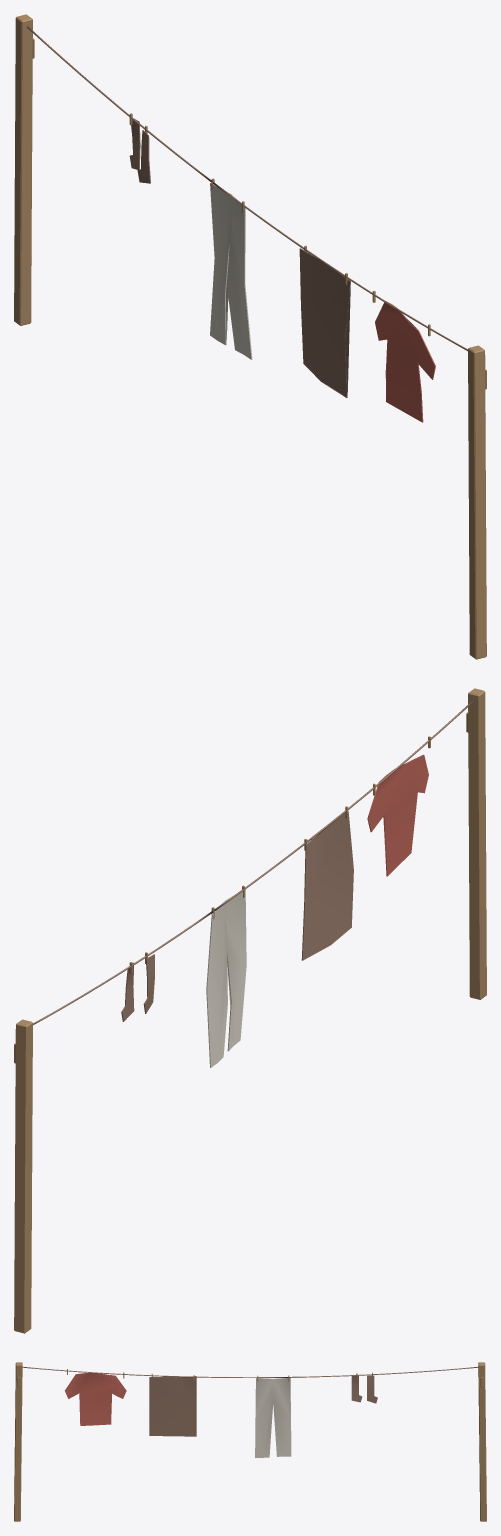
The picture shows the model from 3 angles, top to bottom: view 1: azimuth 30°, elevation 25°; view 2: azimuth 150°, elevation 25°; view 3: azimuth 270°, elevation 25°; orthographic projection. The views are drawn at different scales.
Parts seen in each view (by area): view 1: PART; view 2: PART; view 3: PART.
Part boxes in pixels (x1,y1,x2,y2): PART: (14, 14, 486, 659); PART: (14, 688, 486, 1333); PART: (14, 1362, 486, 1521).
Size of the model in its own units: 0.0975 by 1.9 by 5.19.
